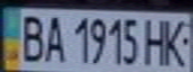1: (69, 13, 90, 64), (106, 15, 124, 65)
5: (121, 15, 145, 65)
9: (87, 15, 109, 64)
A: (39, 11, 69, 63)
B: (15, 11, 48, 63)
H: (142, 16, 172, 66)
K: (160, 15, 193, 67)
